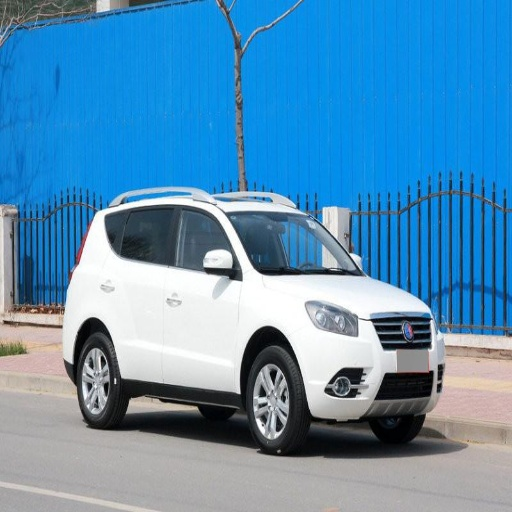front_bumper: (299, 313, 446, 422)
front_right_door: (163, 204, 240, 390)
front_right_light: (304, 299, 358, 335)
